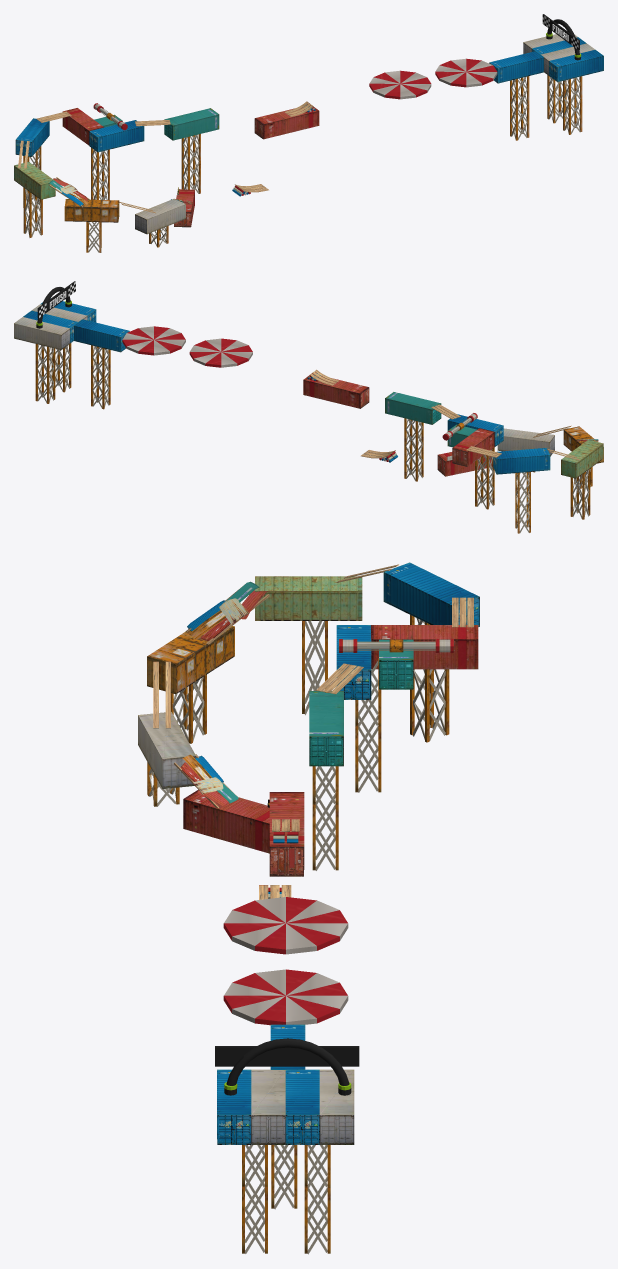
The model's file is 13_Parkour.fbx.
3 renders of one model, top to bottom at view 1: azimuth 30°, elevation 25°; view 2: azimuth 150°, elevation 25°; view 3: azimuth 270°, elevation 25°, orthographic. The views are drawn at different scales.
Parts seen in each view (by area): view 1: TurningPlatformFast, TurningPlatformFast__1_, stcontainerred__6_, stcontainergreen, stcontainerblue__4_, stcontainerblue__1_, stcontainerorange, stcontainerwhitetwo__1_, stcontainerblue__2_, stcontainergreentwo, stcontainerblue, stcontainerred__5_ (+17 smaller); view 2: TurningPlatformFast, TurningPlatformFast__1_, stcontainerred__6_, stcontainerblue, stcontainergreen, stcontainerwhitetwo__3_, stcontainerblue__2_, stcontainergreentwo, stcontainerwhitetwo__1_, stcontainerred__5_, orangescaffold__2_, finishObject (+16 smaller); view 3: TurningPlatformFast, TurningPlatformFast__1_, stcontainergreentwo, finishObject, stcontainerblue, stcontainerred__4_, stcontainerorange, stcontainerred__5_, stcontainerwhitetwo__1_, stcontainerblue__3_, stcontainerwhitetwo__2_, stcontainergreen (+16 smaller).
Part boxes in pixels (x1,y1,x2,y2): TurningPlatformFast: (369,70,431,99); TurningPlatformFast__1_: (435,58,497,87); stcontainerred__6_: (254,106,319,139); stcontainergreen: (164,108,219,140); stcontainerblue__4_: (549,49,603,81); stcontainerblue__1_: (89,120,144,152); stcontainerorange: (64,199,119,222); stcontainerwhitetwo__1_: (135,198,185,234); stcontainerblue__2_: (489,51,543,83); stcontainergreentwo: (14,161,55,199); stcontainerblue: (15,118,49,156); stcontainerred__5_: (62,108,103,145); TurningPlatformFast: (189,338,252,367); TurningPlatformFast__1_: (122,326,185,355); stcontainerred__6_: (303,373,369,408); stcontainerblue: (493,447,550,474); stcontainergreen: (385,392,441,424); stcontainerwhitetwo__3_: (14,317,69,349); stcontainerblue__2_: (74,319,129,352); stcontainergreentwo: (561,439,603,478); stcontainerwhitetwo__1_: (497,428,554,456); stcontainerred__5_: (452,428,494,466); orangescaffold__2_: (570,468,590,519); finishObject: (36,281,75,328); TurningPlatformFast: (223,897,348,954); TurningPlatformFast__1_: (223,969,348,1025); stcontainergreentwo: (255,576,362,620); finishObject: (215,1038,359,1095); stcontainerblue: (383,562,479,626); stcontainerred__4_: (183,789,269,853); stcontainerorange: (147,626,234,694); stcontainerred__5_: (371,625,478,669); stcontainerwhitetwo__1_: (138,711,196,788); stcontainerblue__3_: (285,1069,319,1144); stcontainerwhitetwo__2_: (251,1069,285,1144); stcontainergreen: (309,691,343,766).
Size of the model in its own units: 19820 by 3578 by 5300.
